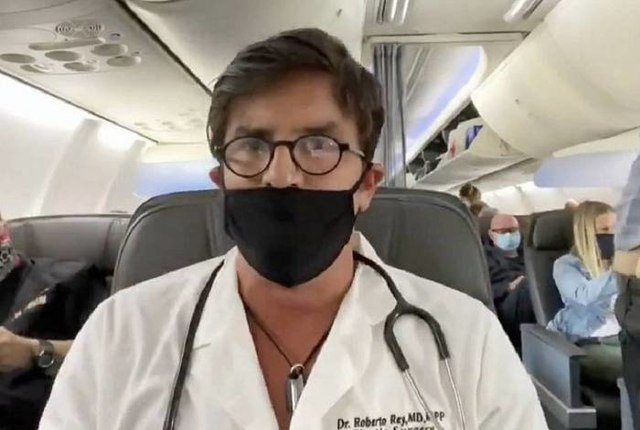mask_weared_incorrect: (207, 83, 382, 286)
